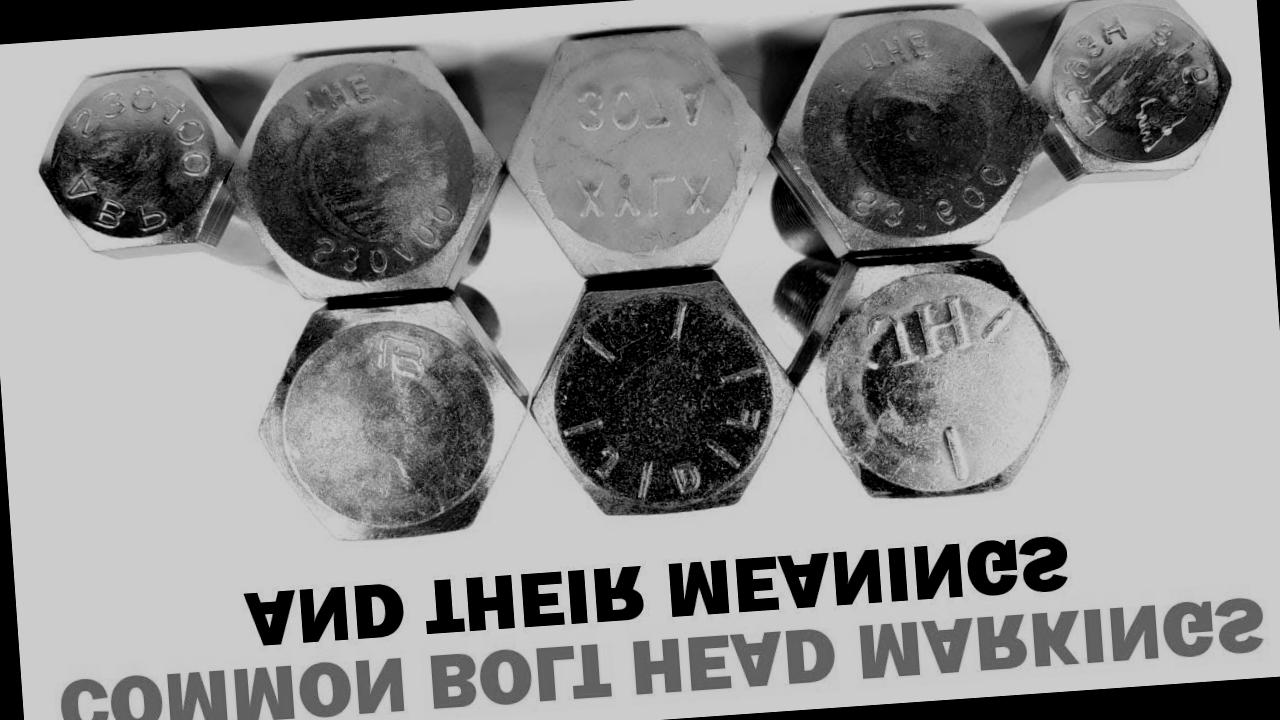screw: (222, 44, 518, 303), (762, 2, 1056, 260), (794, 244, 1077, 506), (498, 20, 780, 280), (249, 294, 536, 548), (521, 276, 802, 523), (28, 65, 247, 264), (1019, 0, 1238, 190)
